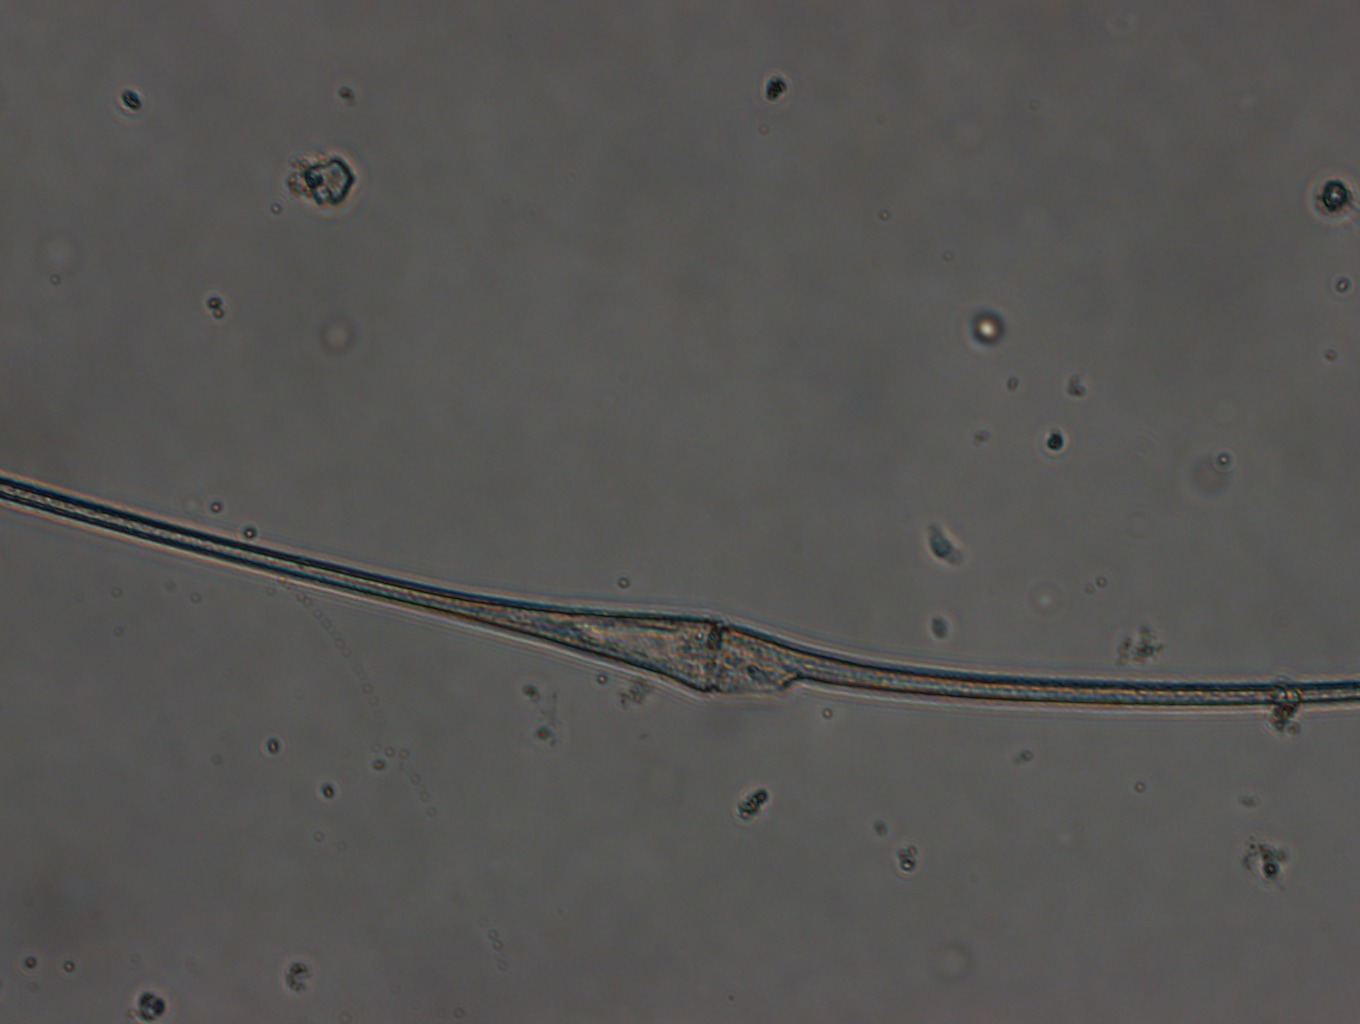ceratium fusus: (1, 472, 1360, 703)
